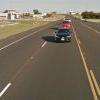Car: (51, 19, 76, 47)
